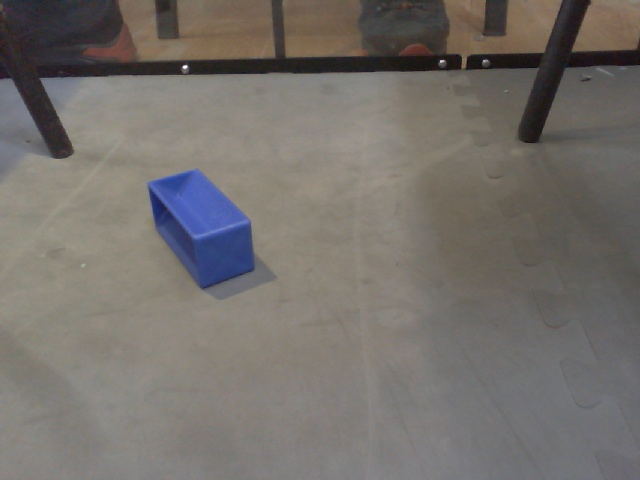BlueSample: (146, 167, 260, 292)
